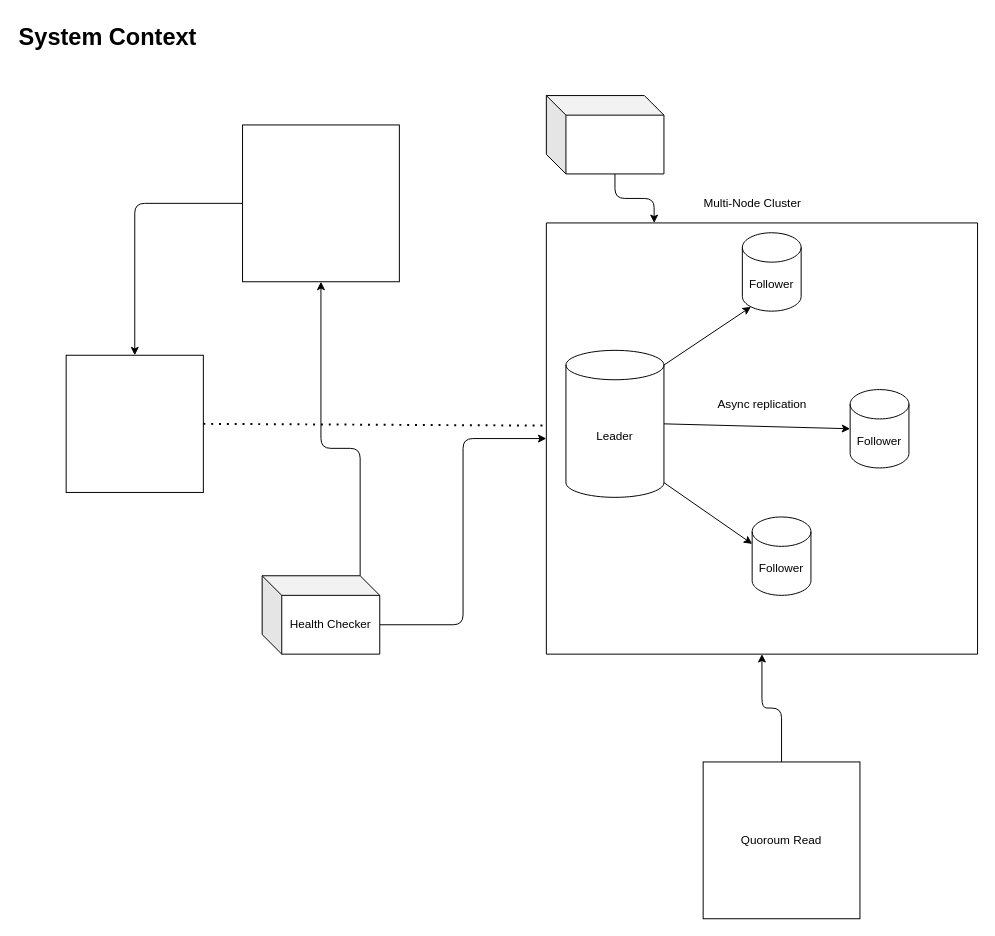
Image size: 995x936. Some labels were removed from this diagram. The shapes that lost their labels are listed below. From the top down, each one's box as (x1, y1, x2, y2) in pixels, then its label:
(545, 95, 664, 174): Failover Process
(242, 124, 399, 282): Node Registry
(65, 354, 203, 492): Node Router
